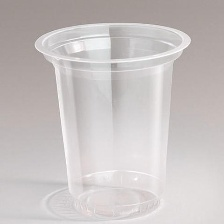glass: (29, 15, 199, 223)
